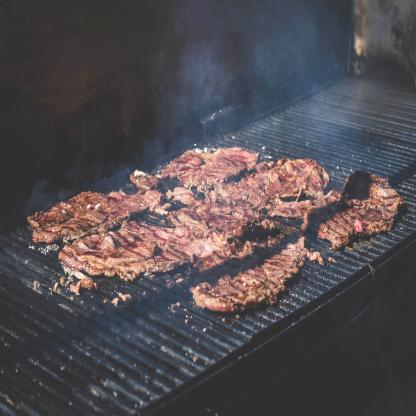Carne: (209, 239, 312, 317), (312, 176, 402, 253), (30, 183, 128, 244), (60, 229, 186, 273), (229, 161, 344, 208), (181, 184, 266, 229), (180, 146, 253, 186)
